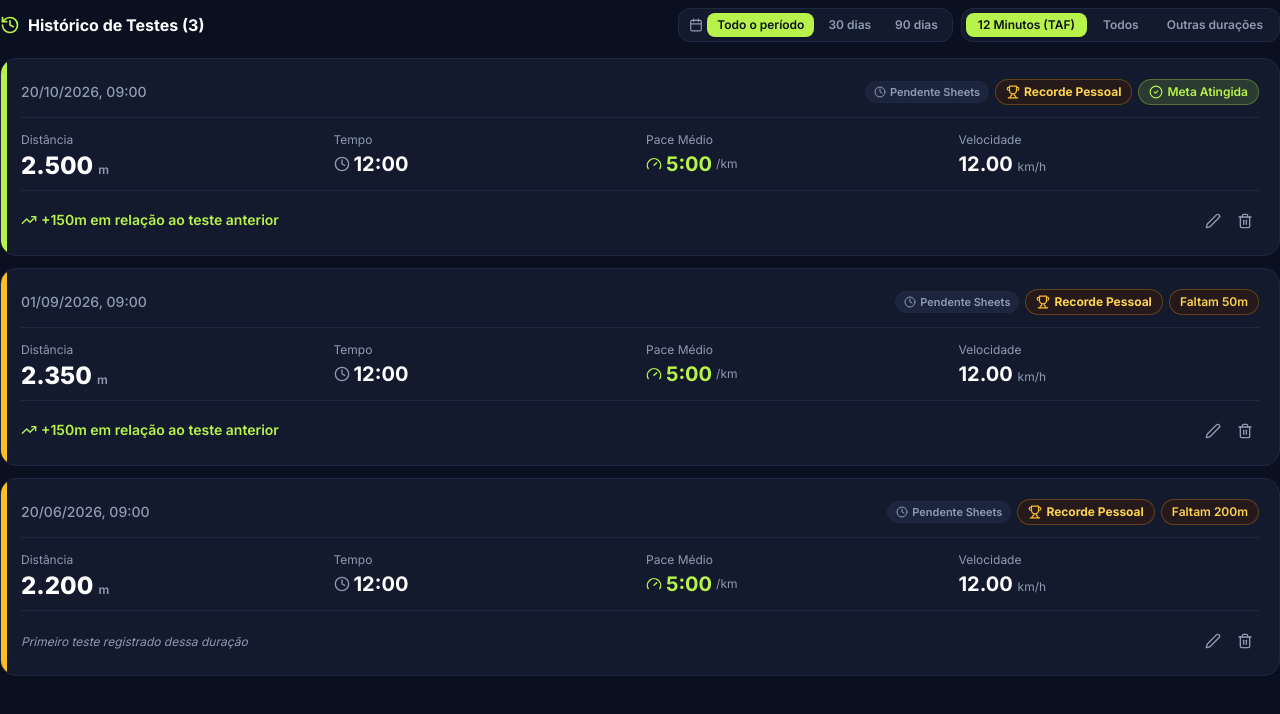
TafAttemptList Component › filtra por duração (12 Minutos, Todos, Outras durações) e por período (30d, 90d, Todo o período)
Expected: the heading "Histórico de Testes (3)" is shown, [28,13,204,37]
Click the button "30 dias": [850, 25] box [818,13,881,37]
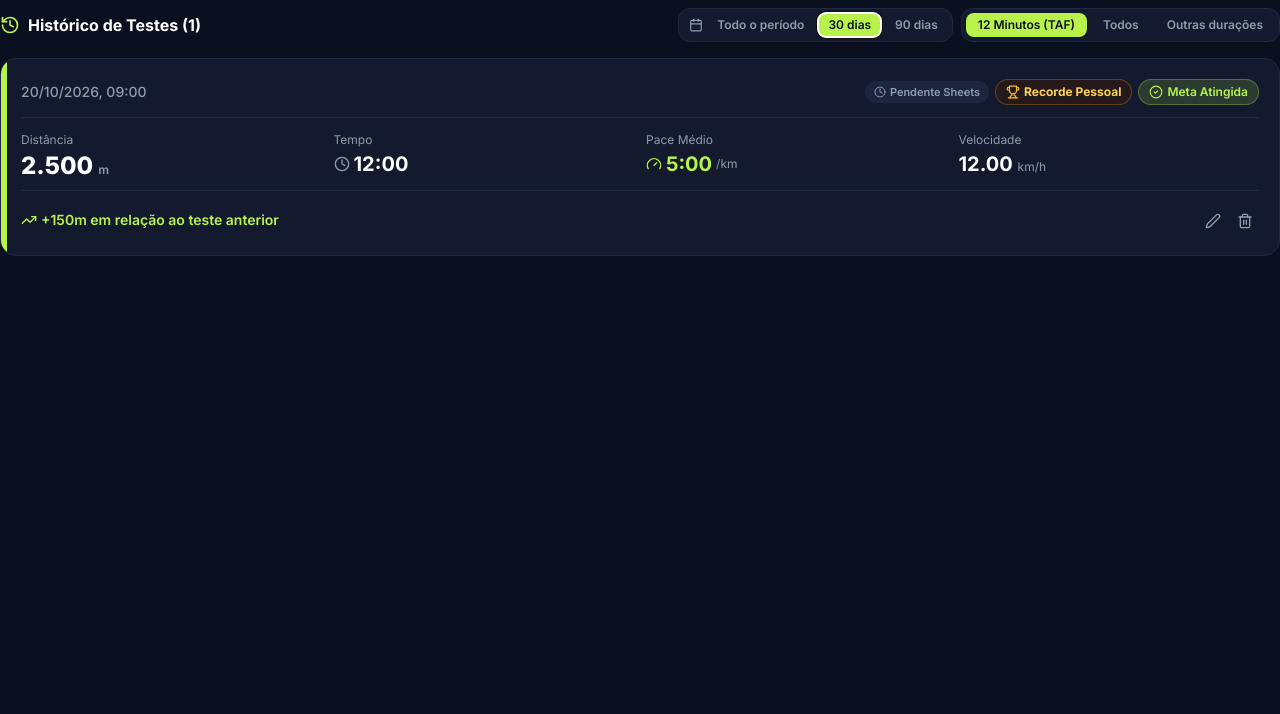
Expected: the heading "Histórico de Testes (1)" is shown, [28,13,201,37]
Click the button "90 dias": [916, 25] box [885,13,948,37]
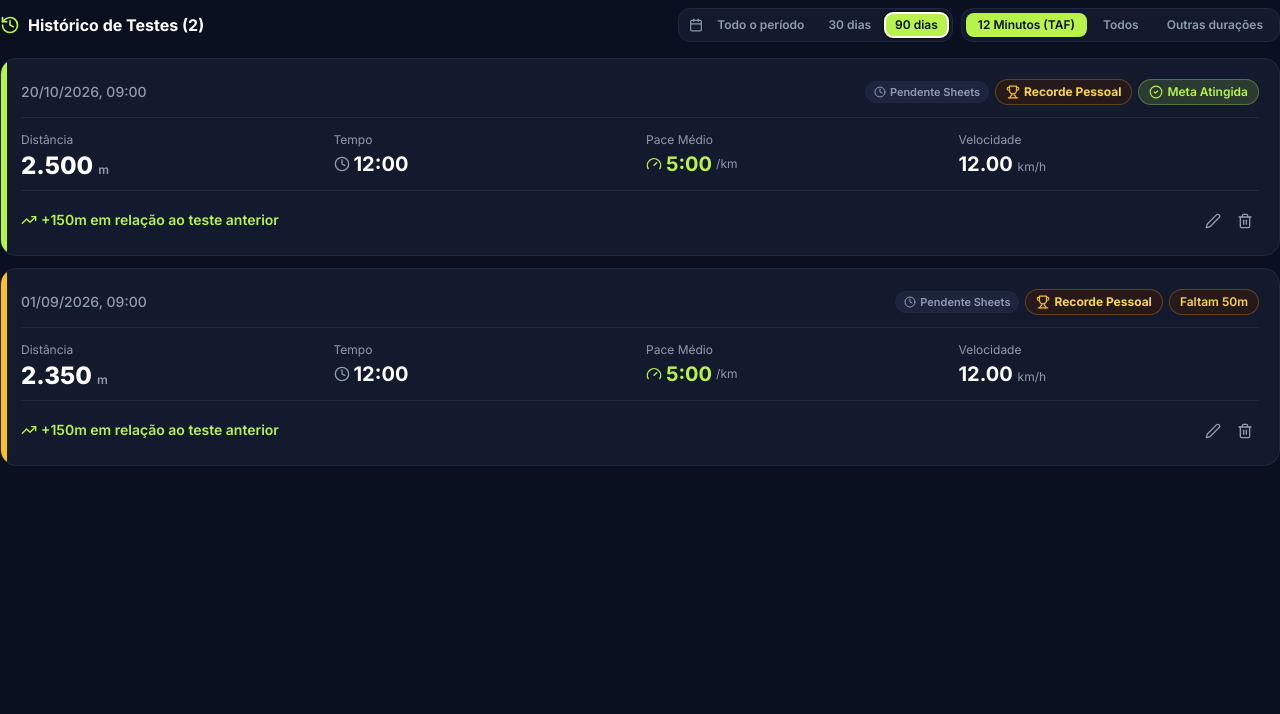
Expected: the heading "Histórico de Testes (2)" is shown, [28,13,204,37]
Click the button "Todo o período": [761, 25] box [707,13,814,37]
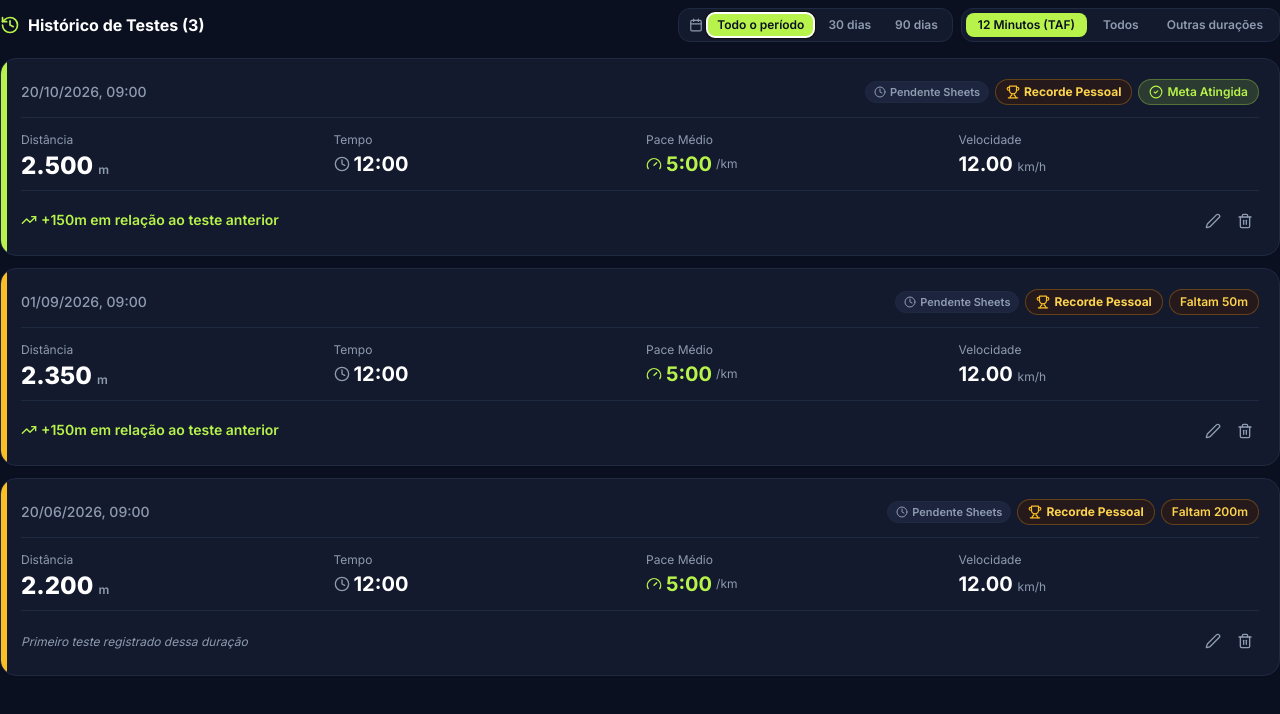
Click the button "Todos": [1121, 25] box [1091,13,1151,37]
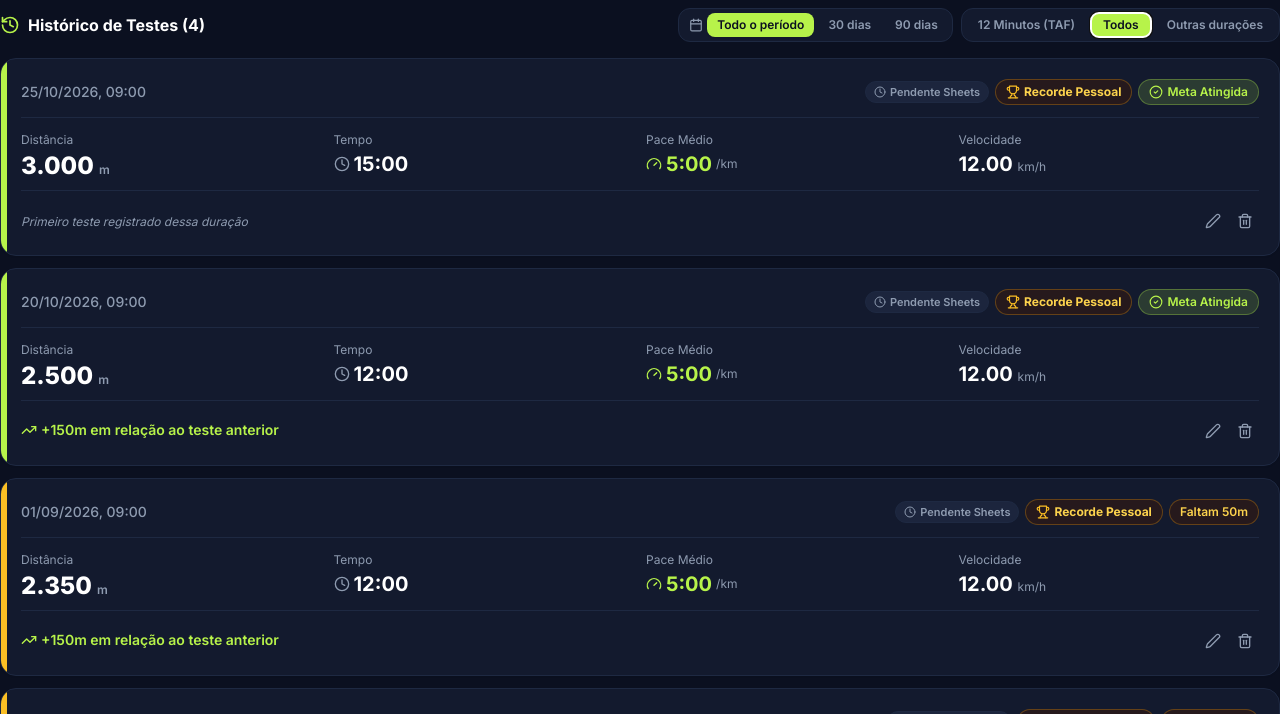
Expected: the heading "Histórico de Testes (4)" is shown, [28,13,205,37]
Click the button "Outras durações": [1215, 25] box [1155,13,1275,37]
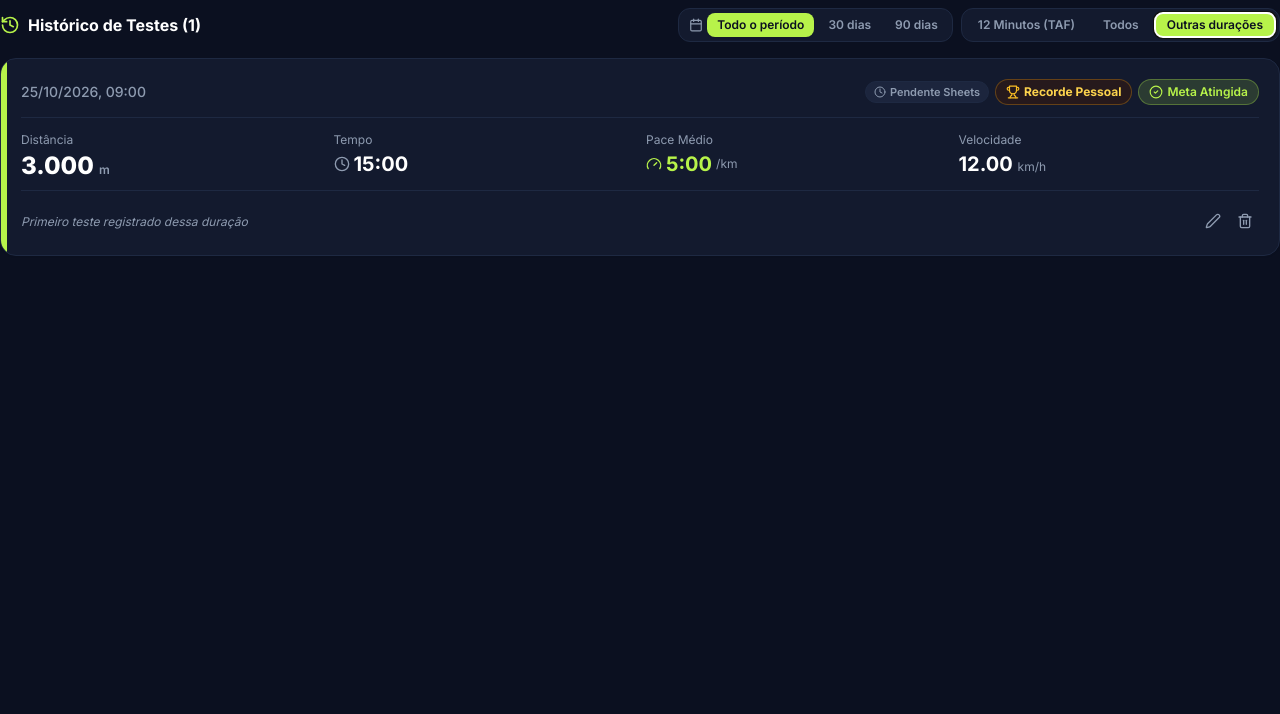
Expected: the element with test id "taf-card-att-other-dur" is shown, [0,58,1279,256]
Expected: the text "3.000" is shown, [21,151,94,180]
Expected: the heading "Histórico de Testes (1)" is shown, [28,13,201,37]
